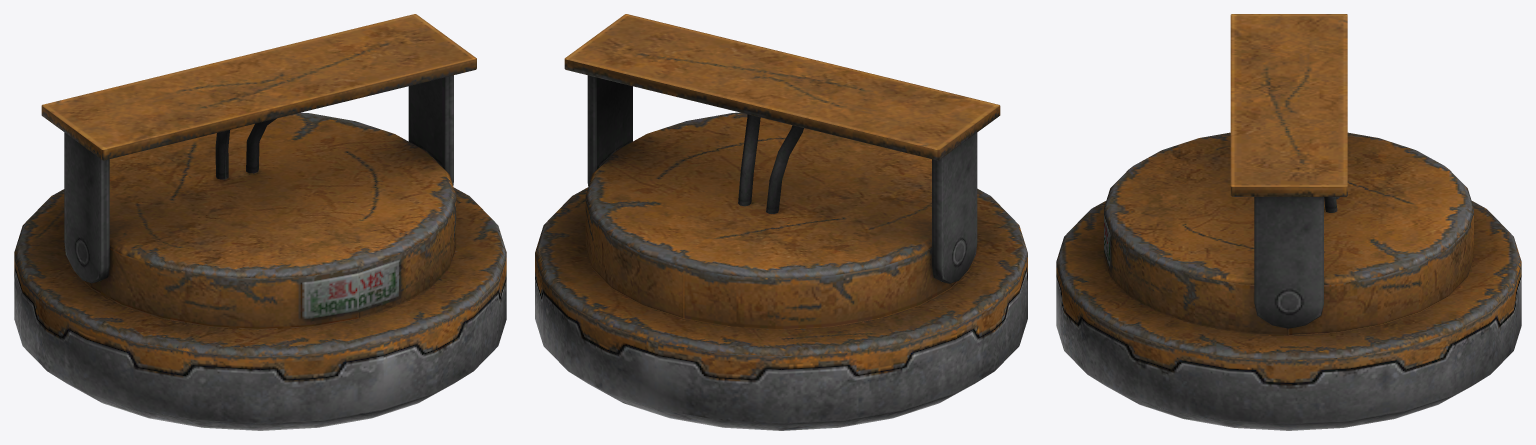
The model's file is lamp_ceiling_deepsea_small.dae.
The picture shows the model from 3 angles, left to right: view 1: azimuth 30°, elevation 25°; view 2: azimuth 150°, elevation 25°; view 3: azimuth 270°, elevation 25°; orthographic projection. The views are drawn at different scales.
Visible parts, largest first — view 1: polySurface101; view 2: polySurface101; view 3: polySurface101.
Boxes of the visible parts, x1,y1,x2,y2 form: polySurface101: (14,14,506,430); polySurface101: (535,14,1027,430); polySurface101: (1056,14,1521,430).
Size of the model in its own units: 0.3999 by 0.2282 by 0.3999.
